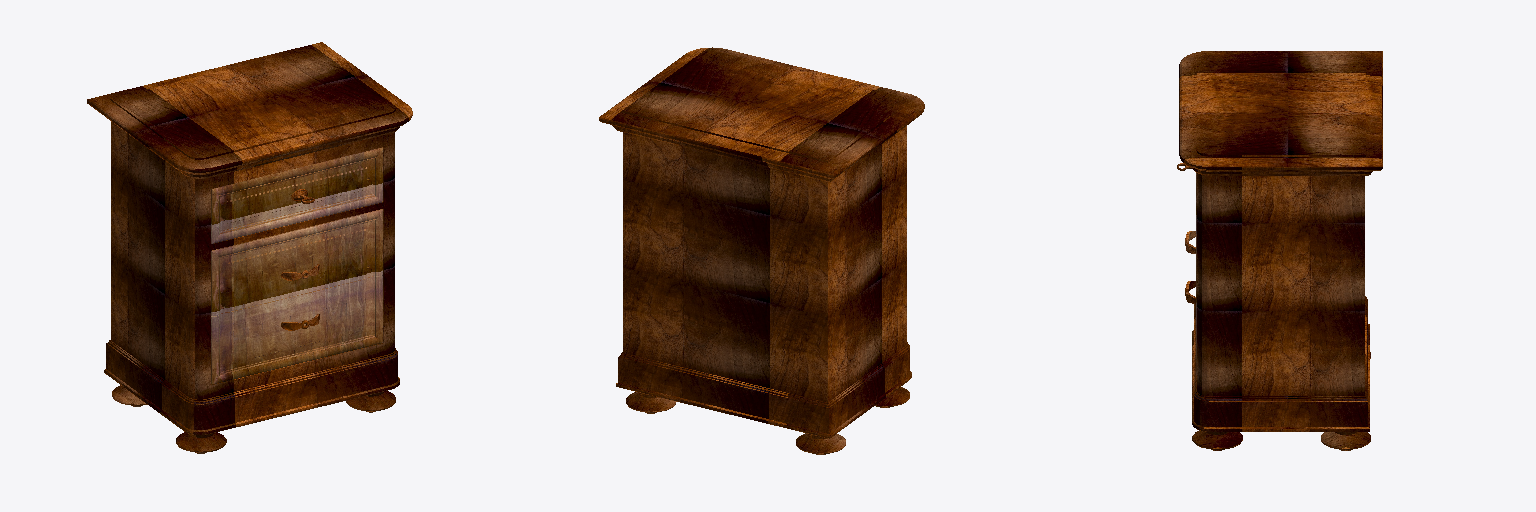
3 views of the same model, side by side, from view 1: azimuth 30°, elevation 25°; view 2: azimuth 150°, elevation 25°; view 3: azimuth 270°, elevation 25° (orthographic).
Visible parts, largest first — view 1: Cylinder02, Box11, Box12, Line07; view 2: Cylinder02; view 3: Cylinder02.
Boxes of the visible parts, <box> form: Cylinder02: <box>87,42,412,453</box>; Box11: <box>211,209,382,384</box>; Box12: <box>211,147,382,243</box>; Line07: <box>281,189,319,330</box>; Cylinder02: <box>599,47,924,454</box>; Cylinder02: <box>1179,51,1382,450</box>.
Bounding box in the file's own units: 0.6248 × 0.7663 × 0.4726.
2 materials, 2 textured.